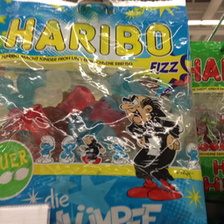candy: (1, 1, 189, 224)
